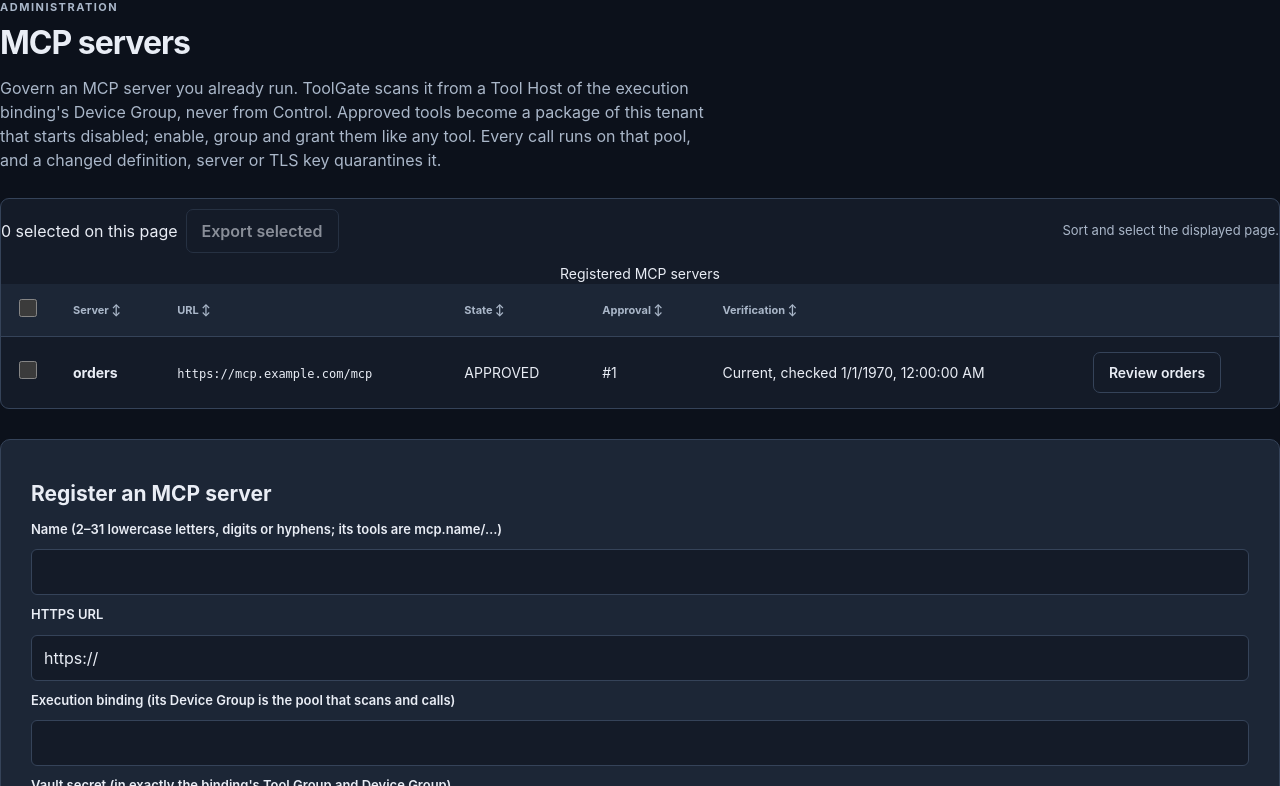
Test: reviews definitions with the diff and approves the selected tools with their names
The image size is (1280, 786).
Click the button "Review orders": (1157, 373) x1=1093 y1=352 x2=1221 y2=393
(page scrolled)
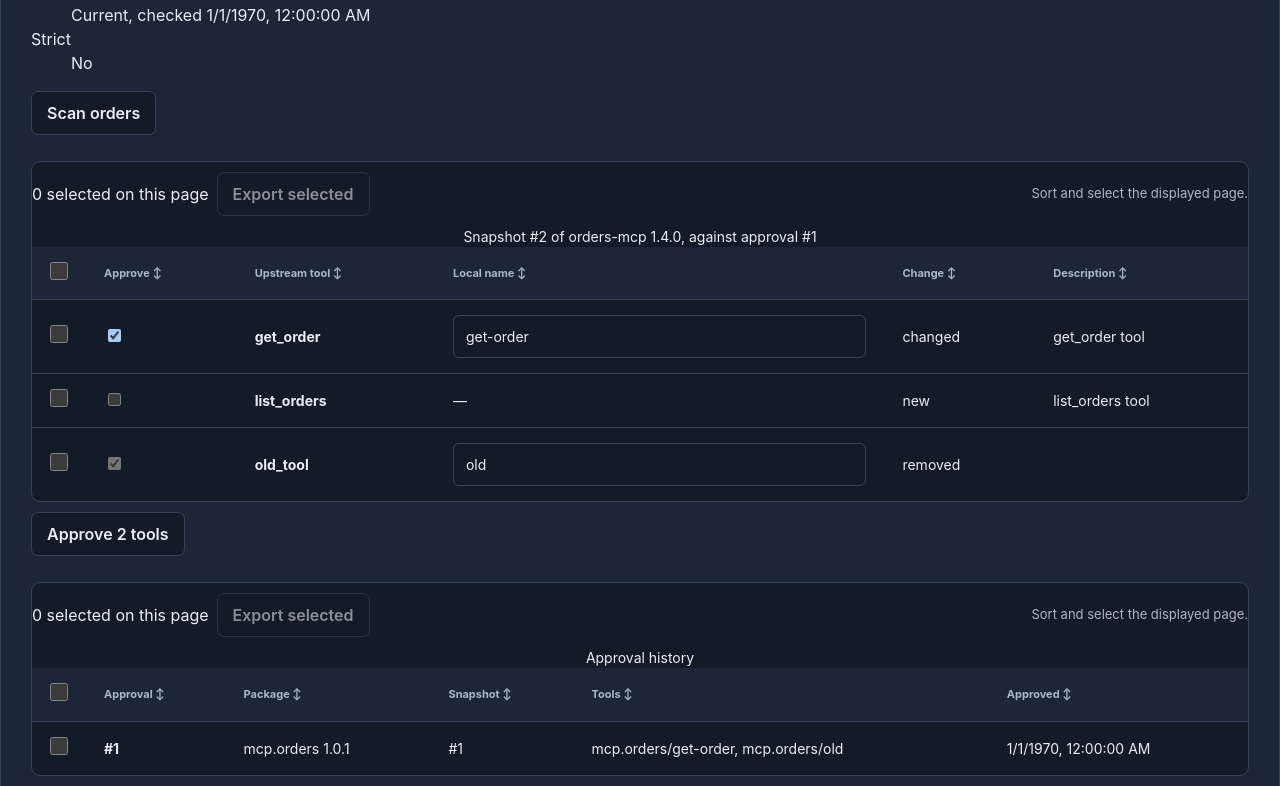
expect the checkbox named "Approve get_order" is checked: met, box x1=108 y1=329 x2=121 y2=342
expect the checkbox named "Approve old_tool" is disabled: met, box x1=108 y1=457 x2=121 y2=470
expect the field named "Local name for get_order" holds "get-order": met, box x1=453 y1=315 x2=866 y2=358
Click the checkbox named "Approve list_orders": (114, 400) x1=108 y1=393 x2=121 y2=406
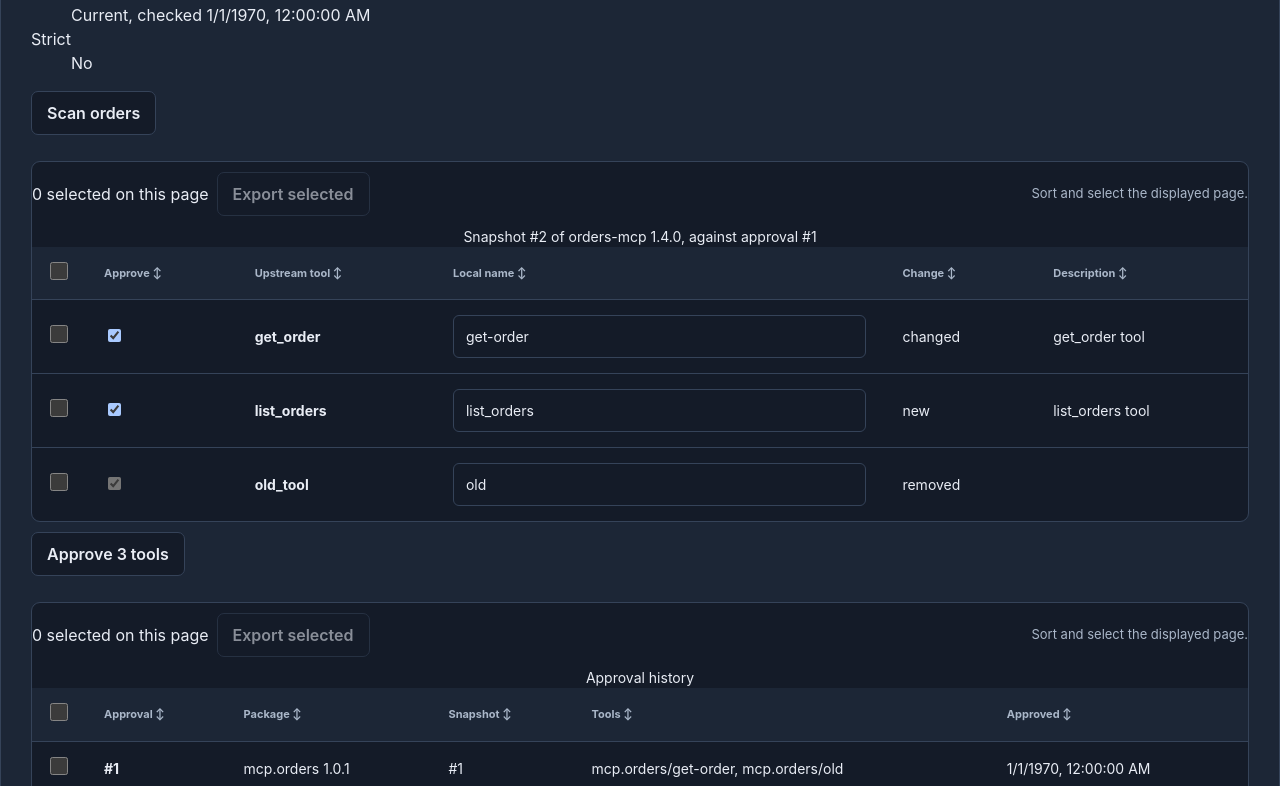
expect the field named "Local name for list_orders" holds "list_orders": met, box x1=453 y1=389 x2=866 y2=432
Click the button "Approve 3 tools": (108, 554) x1=31 y1=532 x2=185 y2=576
(page scrolled)
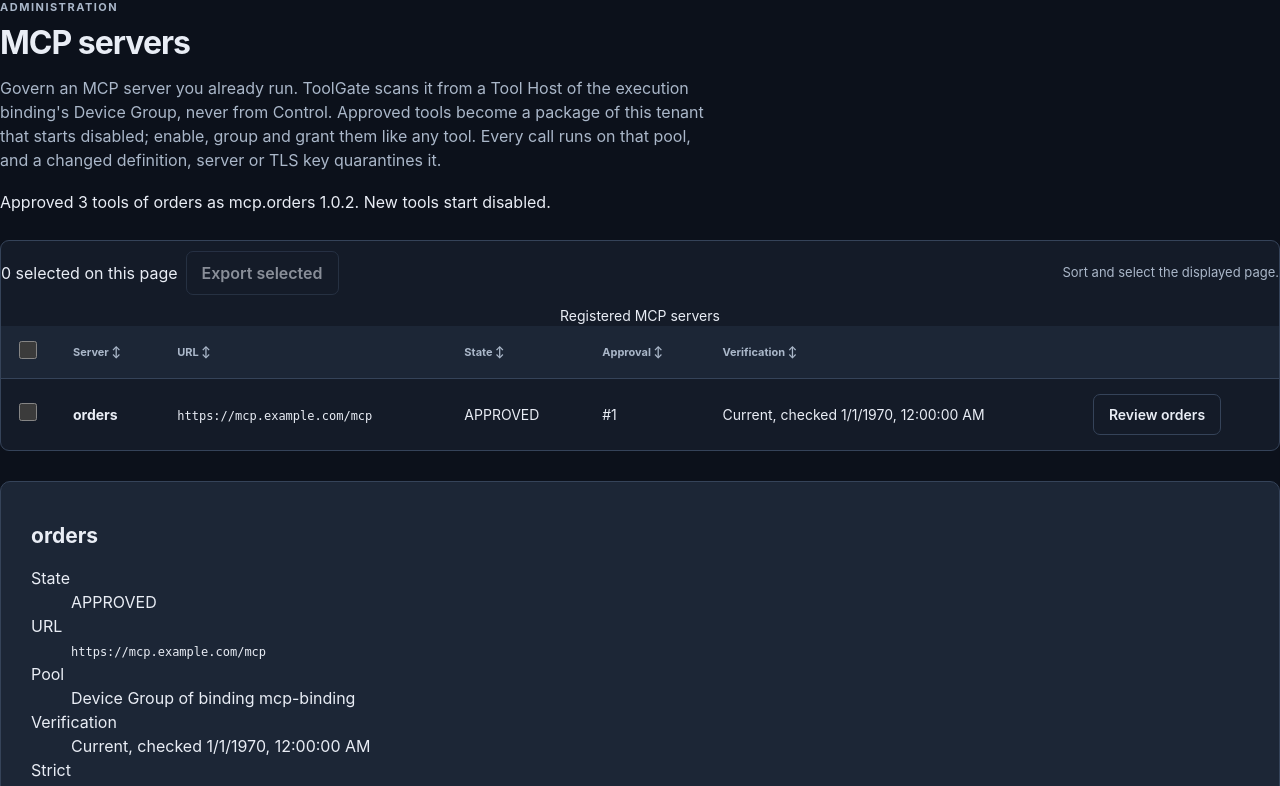
expect the text "Approved 3 tools of orders as mcp.orders 1.0.2. New tools start disabled." is shown: met, box x1=0 y1=192 x2=551 y2=212
